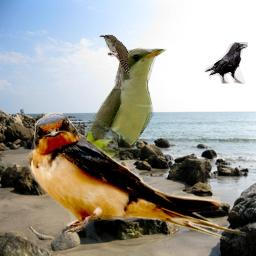Crow: (204, 42, 248, 84)
Cuckoo: (56, 45, 167, 176), (99, 34, 129, 89)
Swallow: (26, 112, 246, 247)
